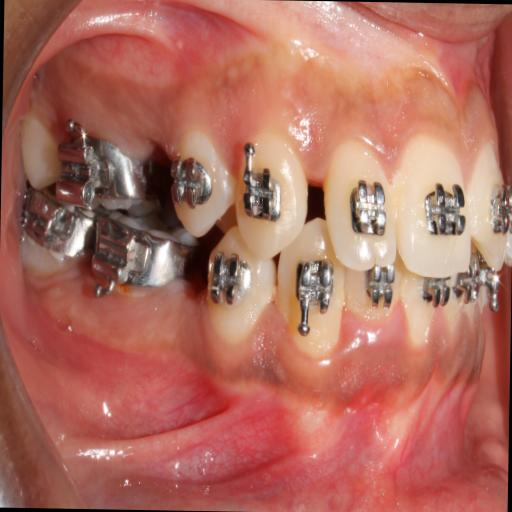correct_brace: (169, 140, 231, 242), (418, 176, 468, 245), (346, 174, 392, 244), (239, 166, 286, 223)
incorrect_brace: (325, 146, 399, 274), (174, 156, 215, 208)
